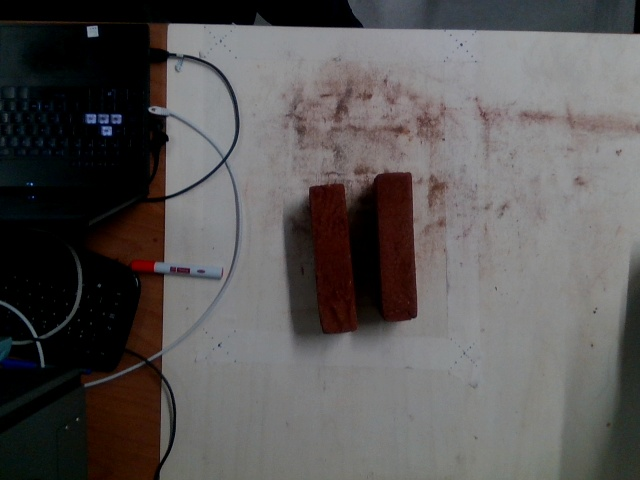brick-side: (310, 185, 355, 336), (377, 174, 416, 317)
